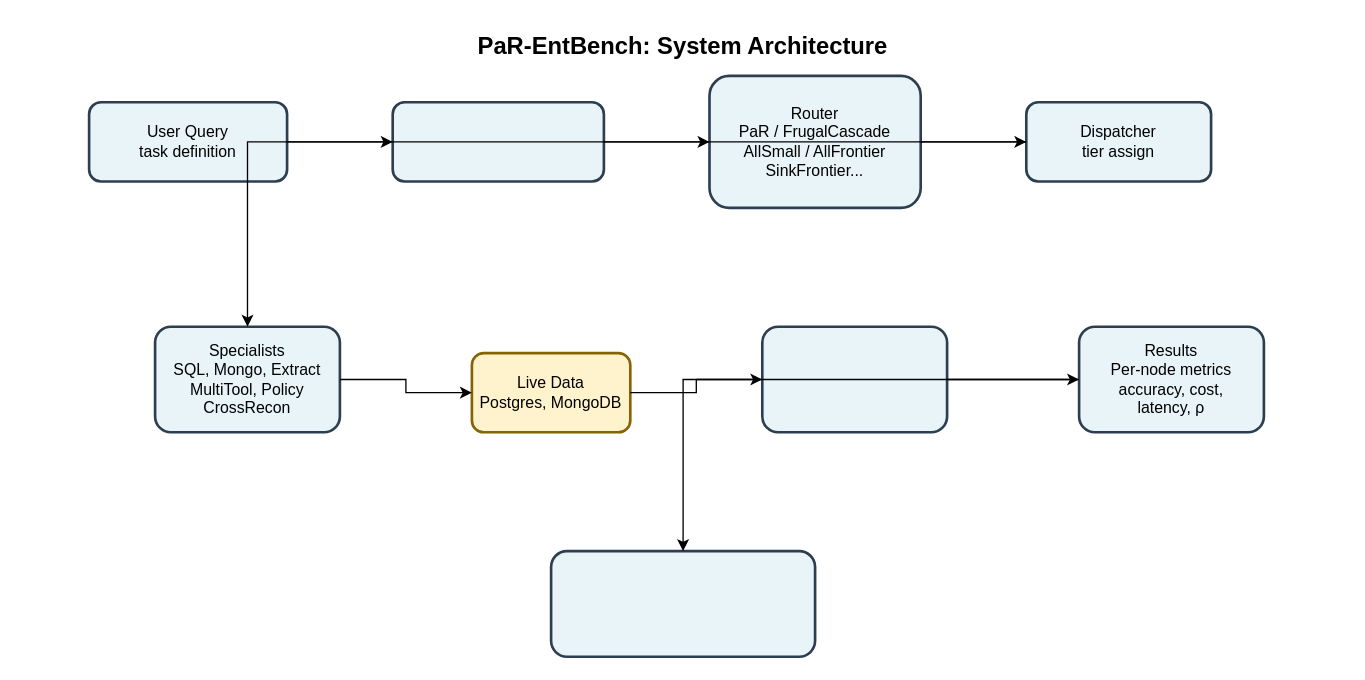
The diagram is 1365 pixels wide and 680 high, and some of its shapes have lost their labels. The box of each missing label's shape, as (x1, y1, x2, y2) in pixels:
Analysis Accuracy, cost, Pareto ρ composition penalty: (549, 549, 816, 657)
Evaluators Task-specific execution-based F1, accuracy, cost: (760, 325, 948, 433)
Planner Haiku 4.5: (391, 100, 605, 182)
